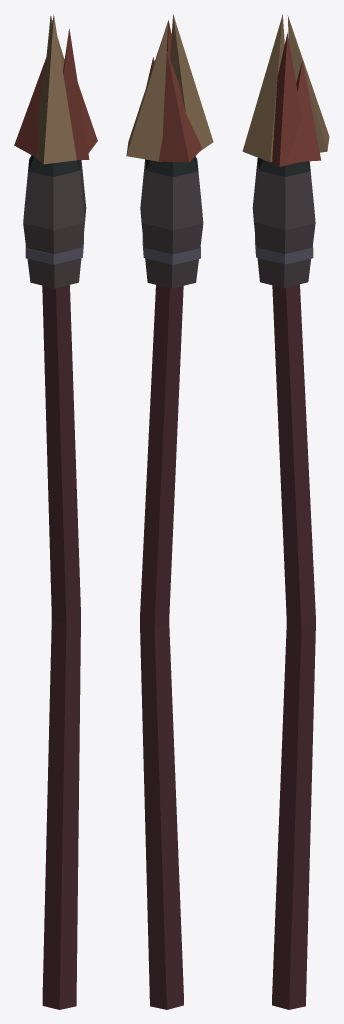
Rendered from torta.glb.
3 views of the same model, side by side, from view 1: azimuth 30°, elevation 25°; view 2: azimuth 150°, elevation 25°; view 3: azimuth 330°, elevation 25° (orthographic).
Parts seen in each view (by area): view 1: Torta, Flacara; view 2: Torta, Flacara; view 3: Torta, Flacara.
Part boxes in pixels (x1,y1,x2,y2): Torta: (23,155,86,1009); Flacara: (14,14,97,164); Torta: (140,156,203,1009); Flacara: (126,14,213,162); Torta: (252,158,315,1009); Flacara: (242,14,329,166).
Bounding box in the file's own units: 0.1479 × 1.95 × 0.1465.
